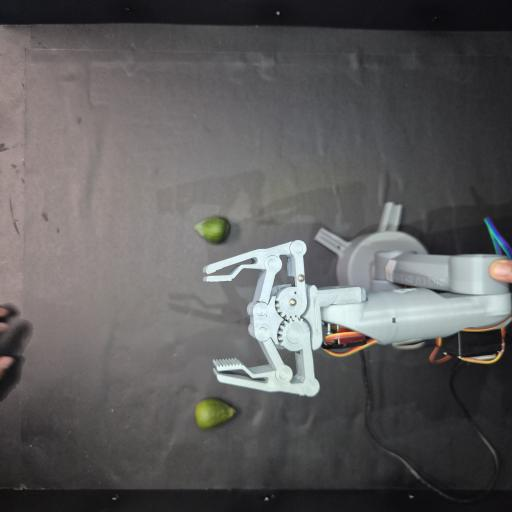higo: (196, 399, 235, 429), (194, 217, 231, 244)
